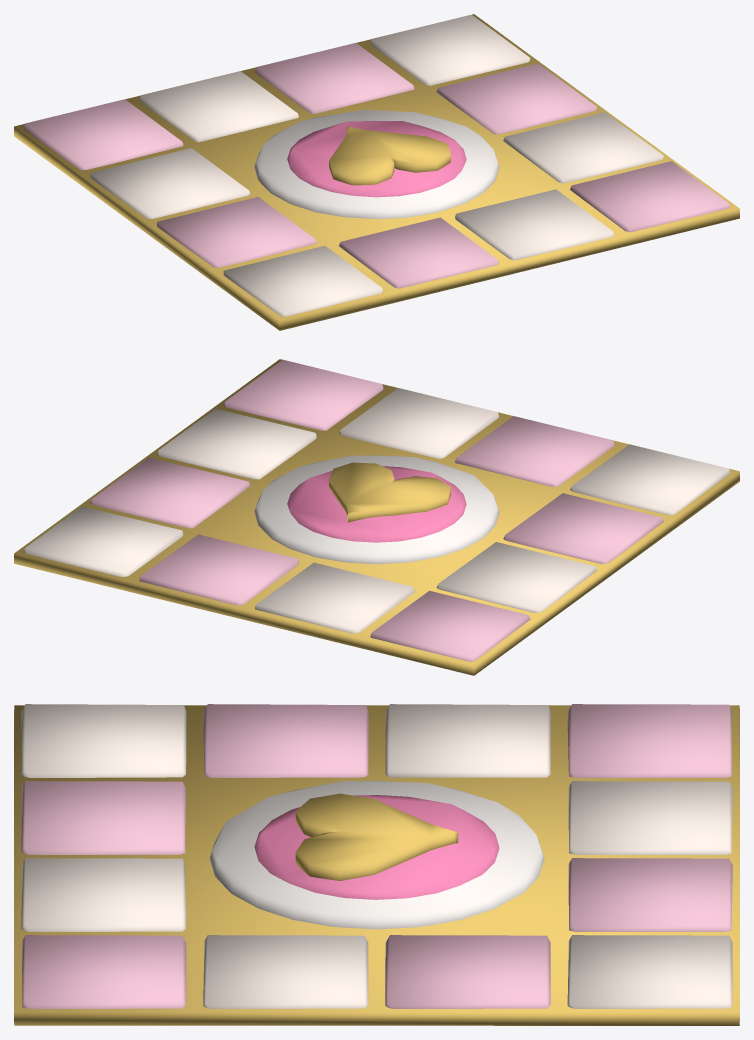
File: lod_paving_tile.glb
3 views of the same model, one above another, from view 1: azimuth 30°, elevation 25°; view 2: azimuth 150°, elevation 25°; view 3: azimuth 270°, elevation 25° (orthographic). The views are drawn at different scales.
Parts seen in each view (by area): view 1: paving_tile; view 2: paving_tile; view 3: paving_tile.
Part boxes in pixels (x1,y1,x2,y2): paving_tile: [14, 14, 739, 330]; paving_tile: [14, 359, 739, 675]; paving_tile: [14, 704, 739, 1025].
Bounding box in the file's own units: 1.99 × 0.1354 × 1.99.
